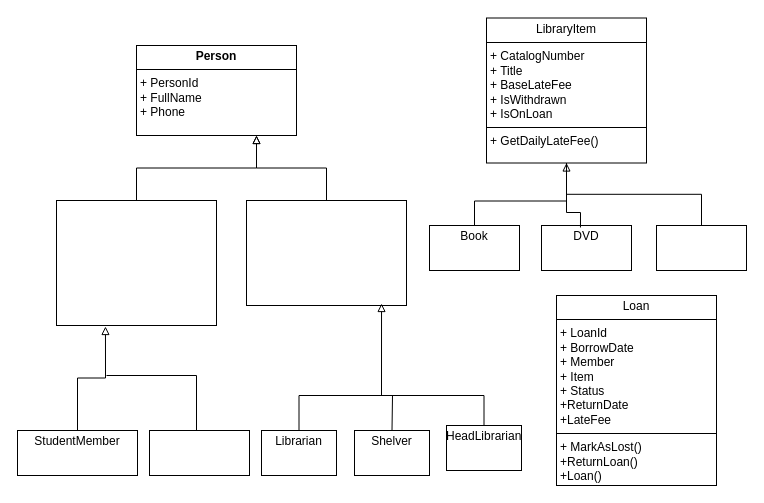
This 764x503 diagram has some shape labels left out. Each missing label, with the box of its shape:
Magazine: (656, 224, 746, 270)
Member # Loans + MaxLoans + LateFeeDisc + ReadingPoints + BorrowItem(): (56, 200, 216, 326)
PremiumMember: (148, 430, 250, 476)
Staff + HireDate + MonthlySalary + GiveRaise() + GetPay() [v]: (246, 200, 406, 306)
